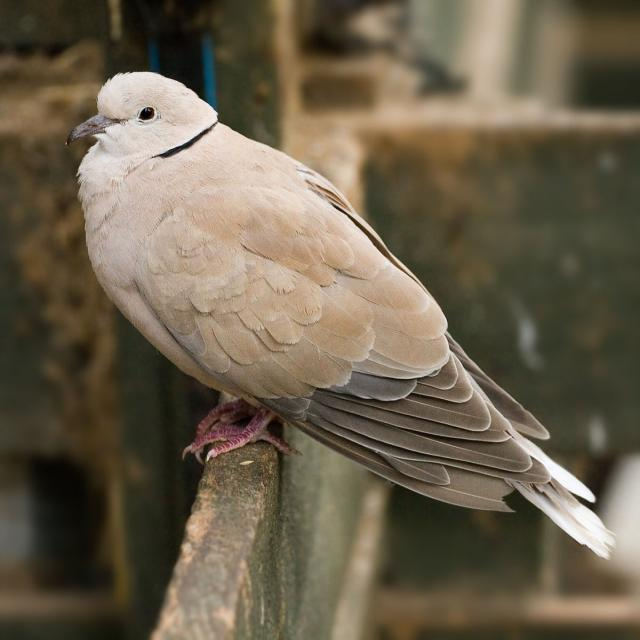dove: (70, 68, 614, 561)
